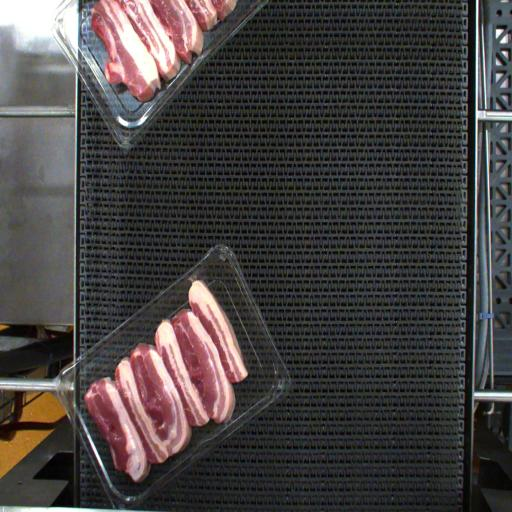packaging-error: (187, 272, 200, 285)
